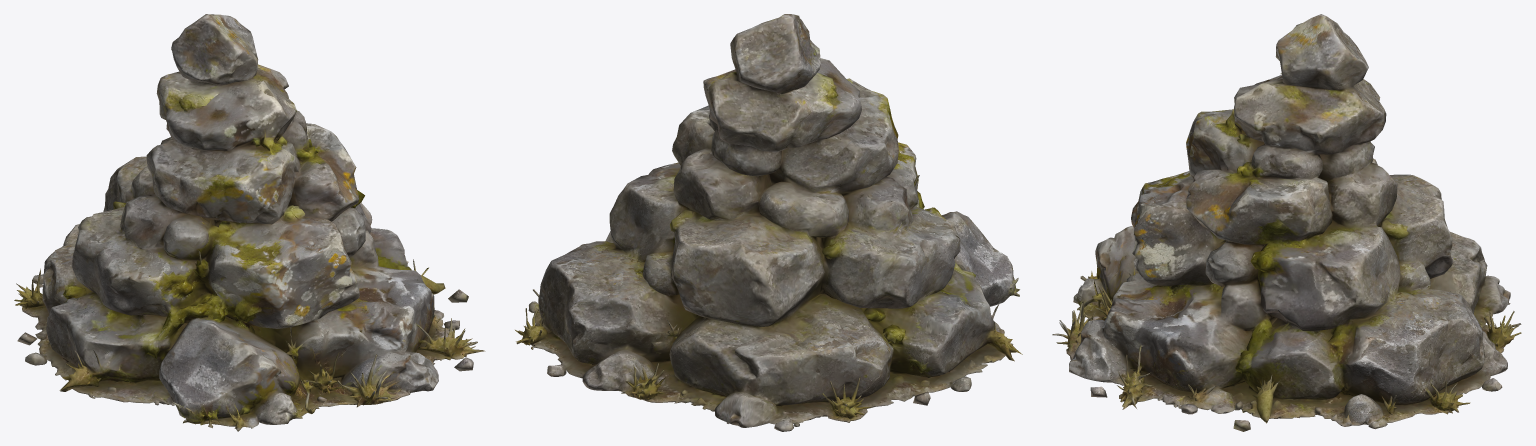
Rendered from stone_cairn_tripo.glb.
3 views of the same model, side by side, from view 1: azimuth 30°, elevation 25°; view 2: azimuth 150°, elevation 25°; view 3: azimuth 270°, elevation 25° (orthographic). The views are drawn at different scales.
Parts seen in each view (by area): view 1: tripo_node_e6943468-139e-44c2-8ea7-a60607cdc81b; view 2: tripo_node_e6943468-139e-44c2-8ea7-a60607cdc81b; view 3: tripo_node_e6943468-139e-44c2-8ea7-a60607cdc81b.
Part boxes in pixels (x1,y1,x2,y2): tripo_node_e6943468-139e-44c2-8ea7-a60607cdc81b: [14, 14, 485, 431]; tripo_node_e6943468-139e-44c2-8ea7-a60607cdc81b: [515, 14, 1022, 431]; tripo_node_e6943468-139e-44c2-8ea7-a60607cdc81b: [1052, 14, 1521, 431].
Bounding box in the file's own units: 1 × 0.7211 × 0.9927.
1 material, 1 textured.
